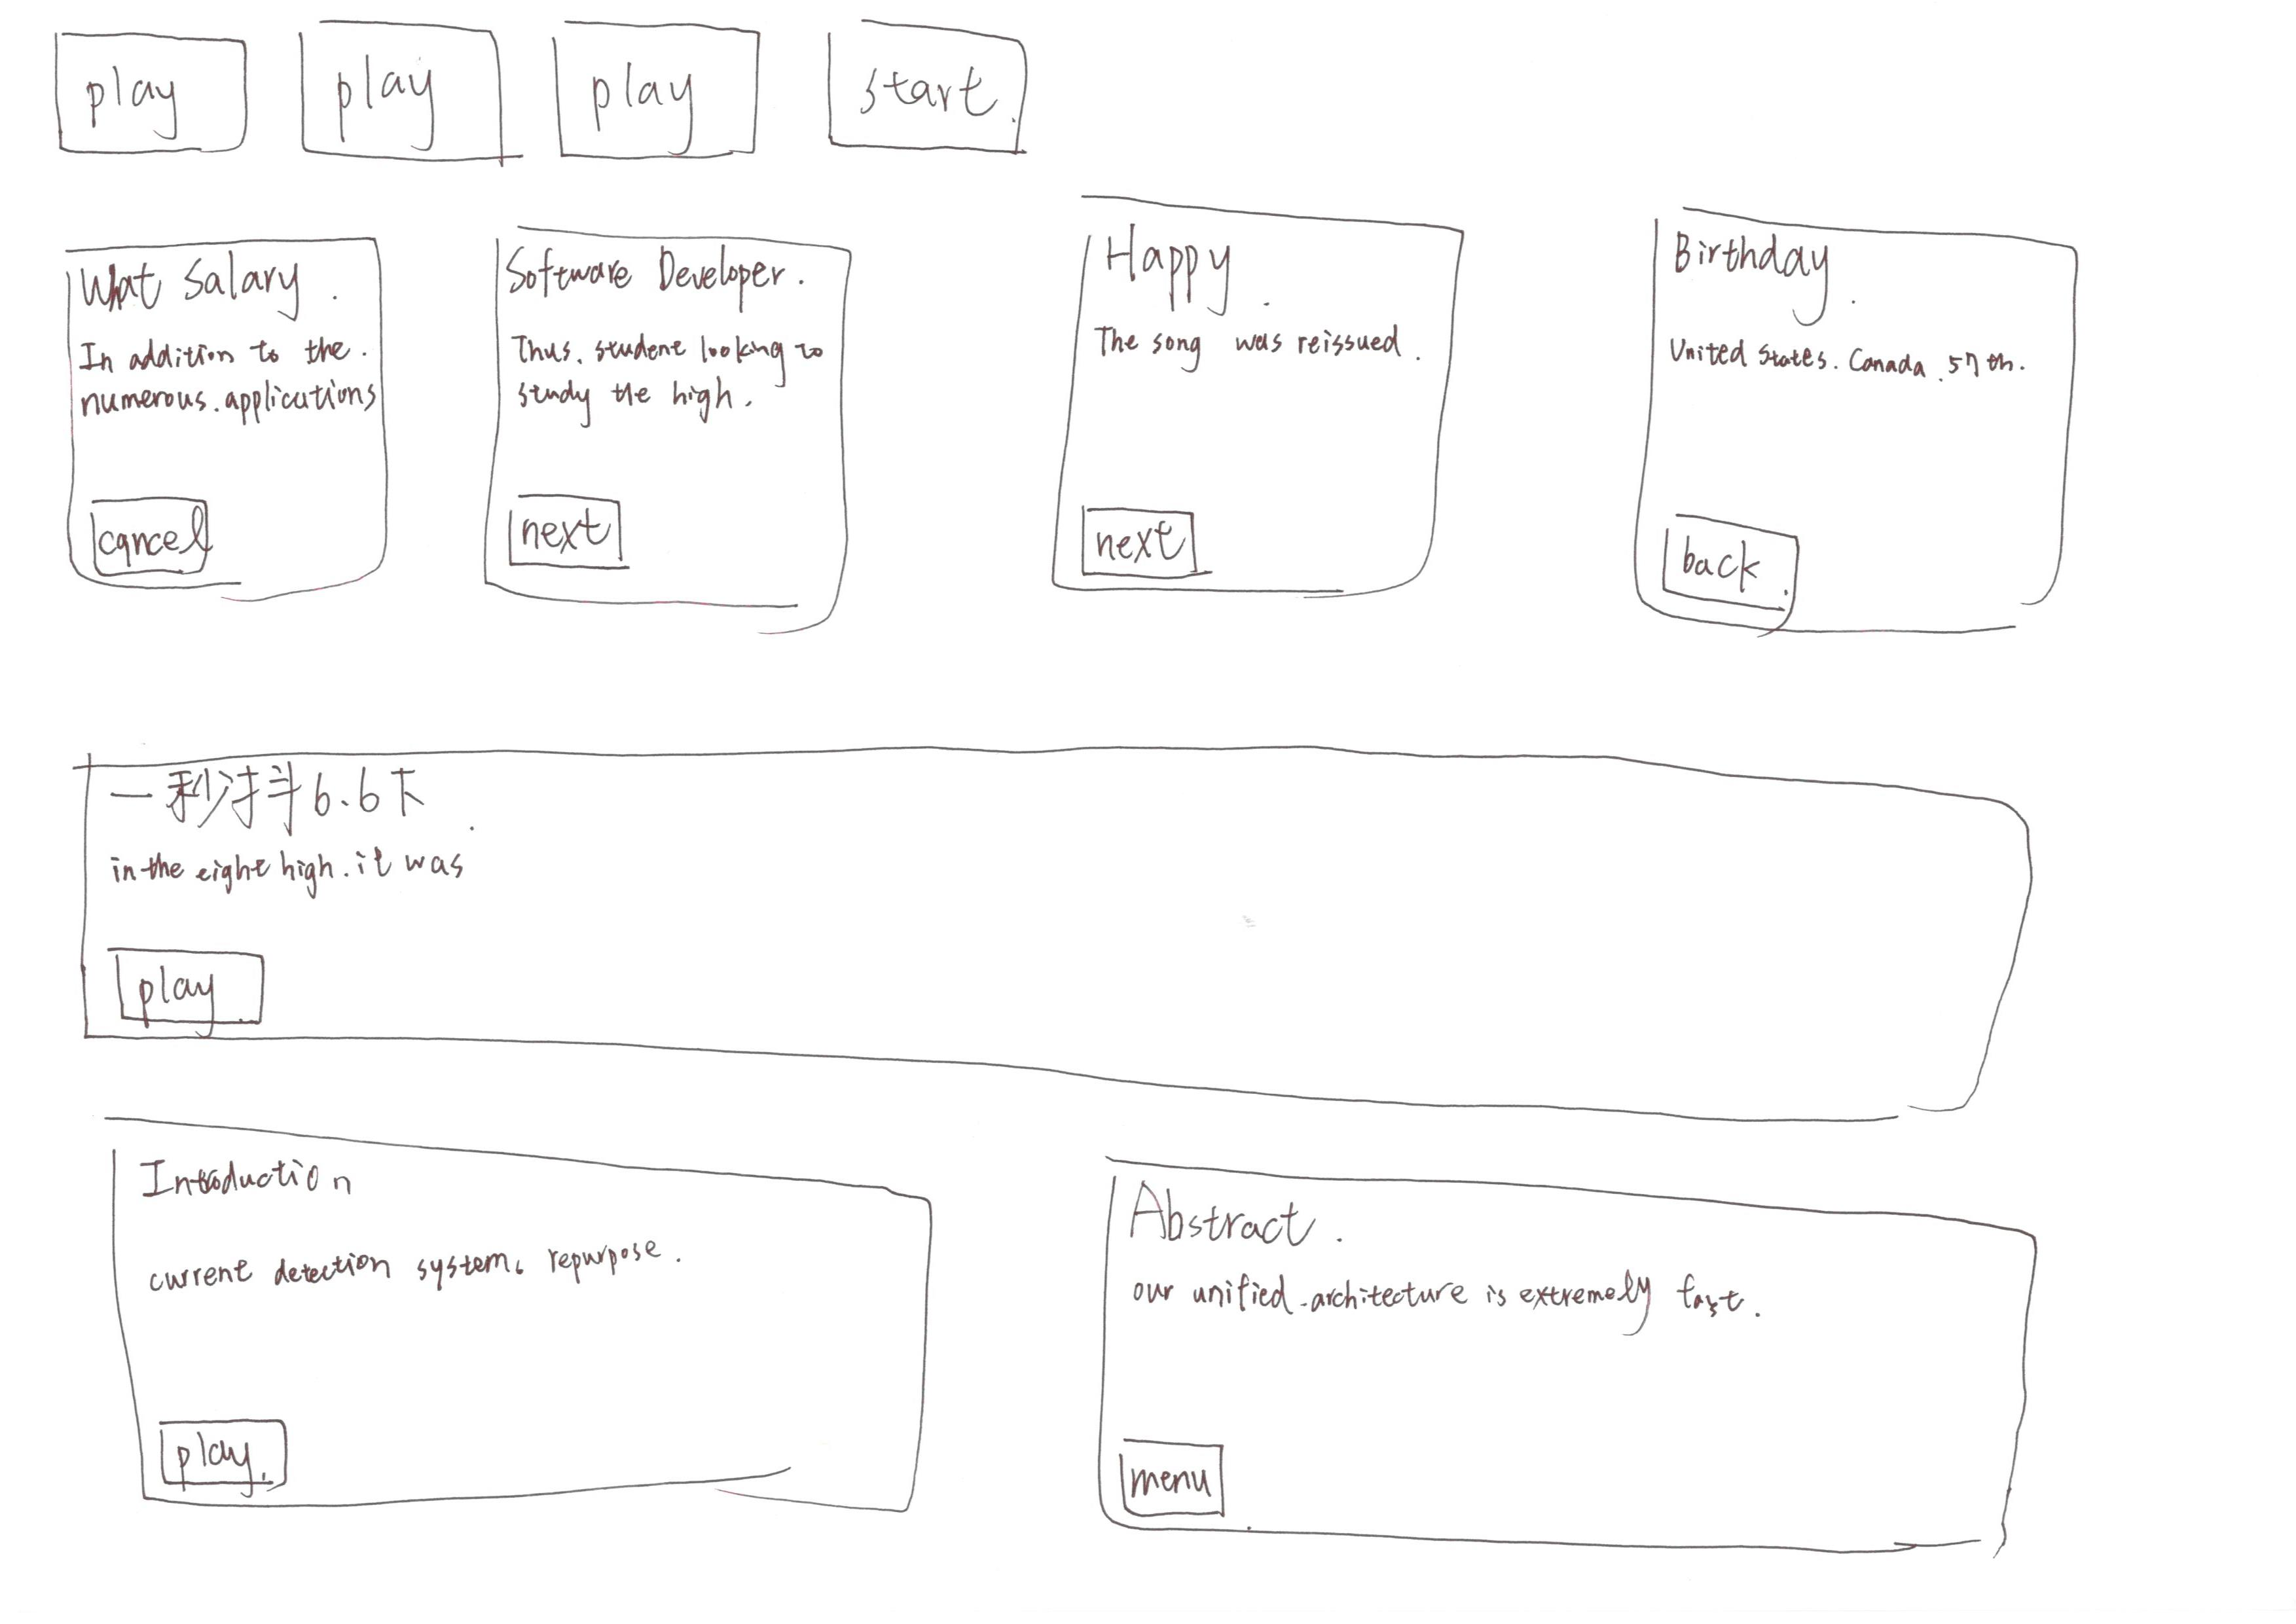cancel: (54, 480, 234, 601)
double: (1079, 1132, 2117, 1599), (42, 1097, 1023, 1555)
menu: (1115, 1427, 1250, 1529)
next: (1074, 483, 1220, 589), (494, 478, 633, 589)
play: (534, 9, 784, 188), (274, 5, 524, 185), (33, 9, 267, 178), (90, 924, 308, 1044), (149, 1392, 301, 1513)
quadruple: (1610, 202, 2096, 663), (1009, 183, 1493, 642), (483, 185, 895, 634), (39, 216, 415, 631)
row: (0, 179, 2275, 685), (44, 1106, 2264, 1592), (5, 698, 2257, 1083), (12, 0, 2245, 188)
single: (37, 707, 2096, 1155)
small-title: (107, 765, 436, 844), (499, 236, 793, 316), (1668, 234, 1918, 316), (125, 1139, 366, 1211), (83, 255, 318, 322), (1137, 1181, 1336, 1251), (1095, 227, 1255, 292)
text: (1141, 1264, 1837, 1359), (141, 1229, 721, 1313), (1672, 320, 2059, 415), (522, 332, 805, 445), (84, 330, 371, 436), (116, 842, 482, 905), (1101, 313, 1438, 373)
